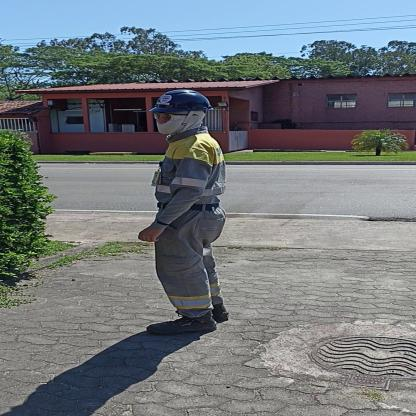Balaclava: (157, 107, 203, 137)
Capacete: (148, 87, 212, 110)
